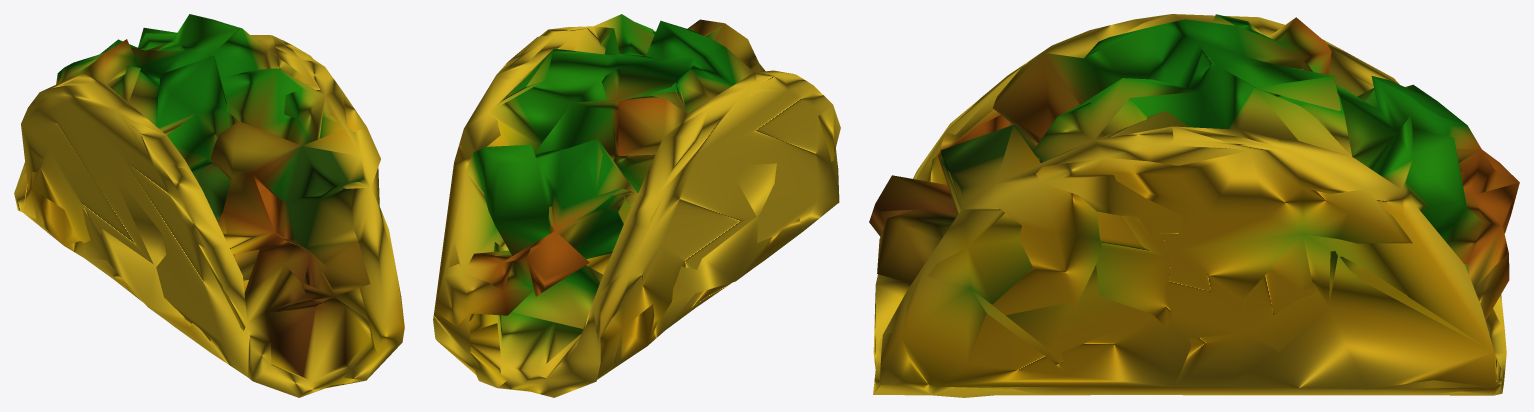
Rendered from gen3d-taco-lod0.glb.
3 renders of one model, left to right at view 1: azimuth 30°, elevation 25°; view 2: azimuth 150°, elevation 25°; view 3: azimuth 270°, elevation 25°, orthographic. The views are drawn at different scales.
Parts seen in each view (by area): view 1: part_0; view 2: part_0; view 3: part_0.
Boxes of the visible parts, <box> form: part_0: <box>14,14,404,397</box>; part_0: <box>433,14,840,397</box>; part_0: <box>869,14,1519,397</box>.
Size of the model in its own units: 0.808 by 0.9934 by 1.68.
